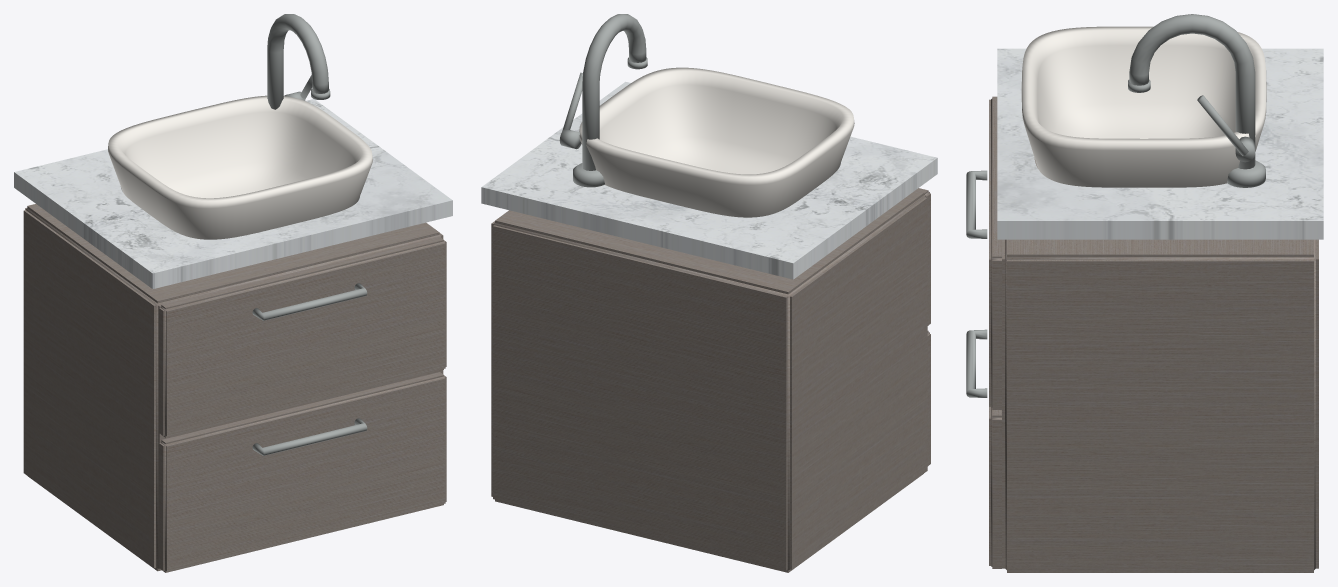
File: modern.wall_vanity.gltf
3 renders of one model, left to right at view 1: azimuth 30°, elevation 25°; view 2: azimuth 150°, elevation 25°; view 3: azimuth 270°, elevation 25°, orthographic. The views are drawn at different scales.
Visible parts, largest first — view 1: modern.wall_vanity.wall-hung-cabinet; view 2: modern.wall_vanity.wall-hung-cabinet; view 3: modern.wall_vanity.wall-hung-cabinet.
Boxes of the visible parts, x1=… form: modern.wall_vanity.wall-hung-cabinet: x1=14, y1=14, x2=452, y2=572; modern.wall_vanity.wall-hung-cabinet: x1=481, y1=14, x2=937, y2=572; modern.wall_vanity.wall-hung-cabinet: x1=966, y1=14, x2=1323, y2=572.
Bounding box in the file's own units: 0.5 × 0.7052 × 0.438.
Materials: 4 (2 with a texture image).
